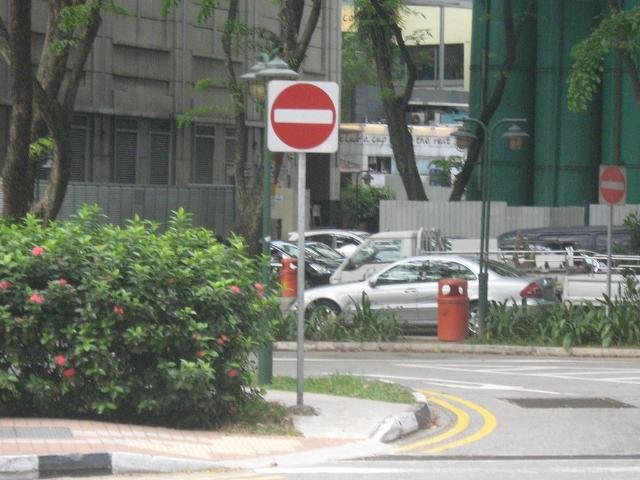B2: (266, 78, 340, 154), (601, 166, 627, 202)
